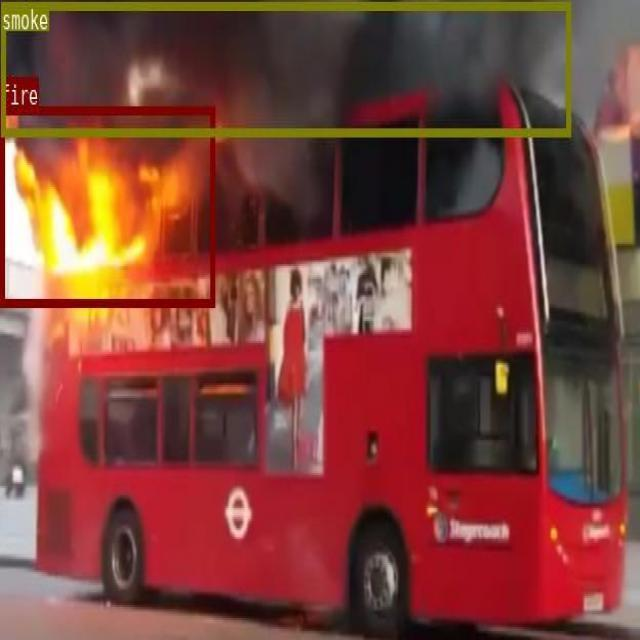fire: (0, 106, 214, 306)
smoke: (0, 0, 570, 136)
